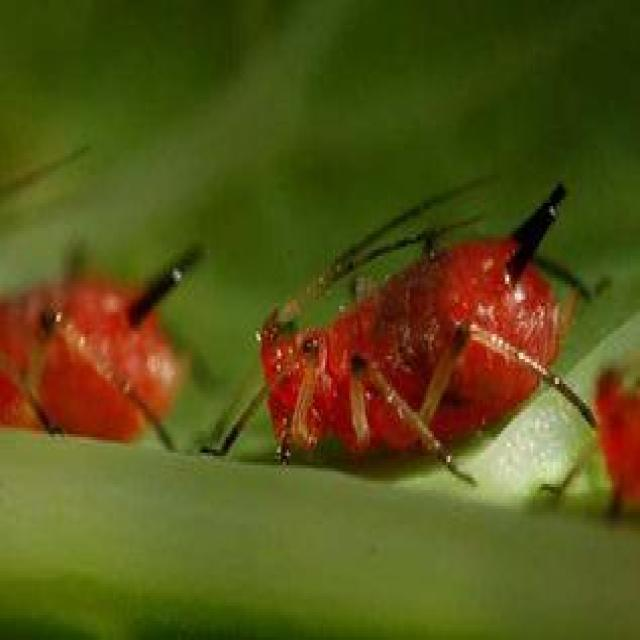Aphids: (229, 166, 611, 507)
